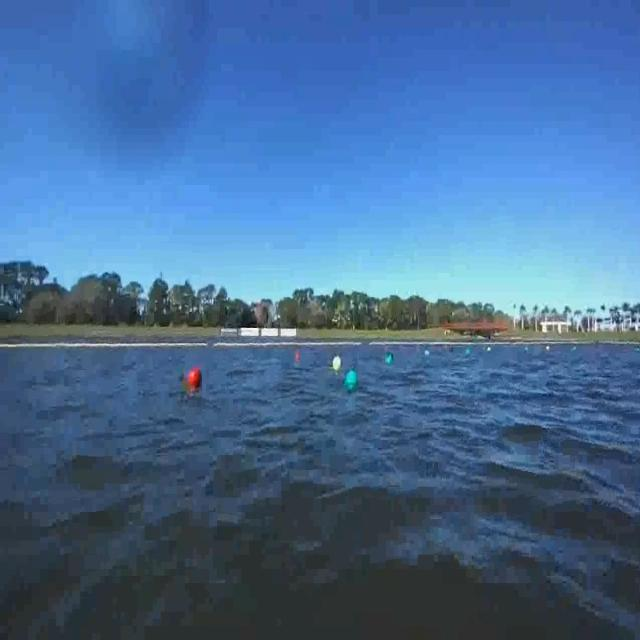green-buoy: (346, 371, 359, 388), (383, 353, 392, 365)
red-buoy: (191, 366, 204, 386)
red-column-buoy: (294, 350, 300, 363)
yellow-buoy: (333, 355, 343, 371)
